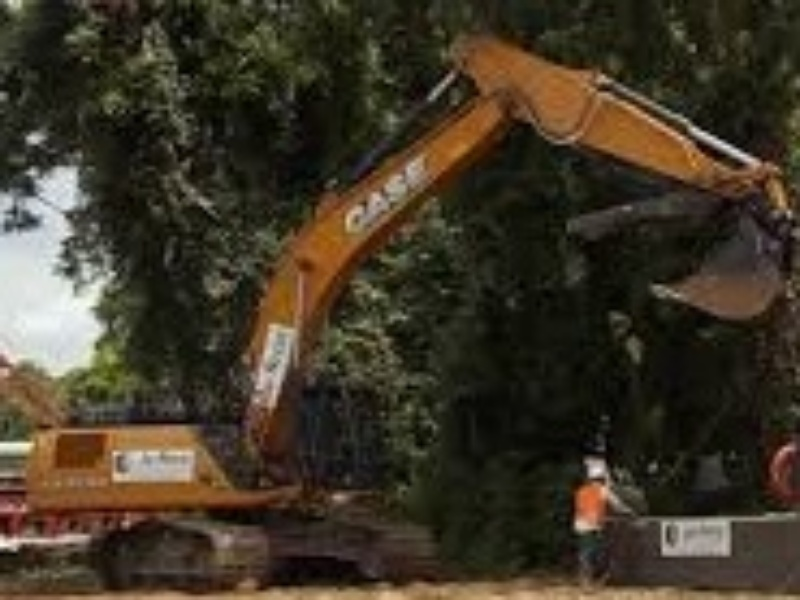wajueji: (16, 390, 406, 600)
